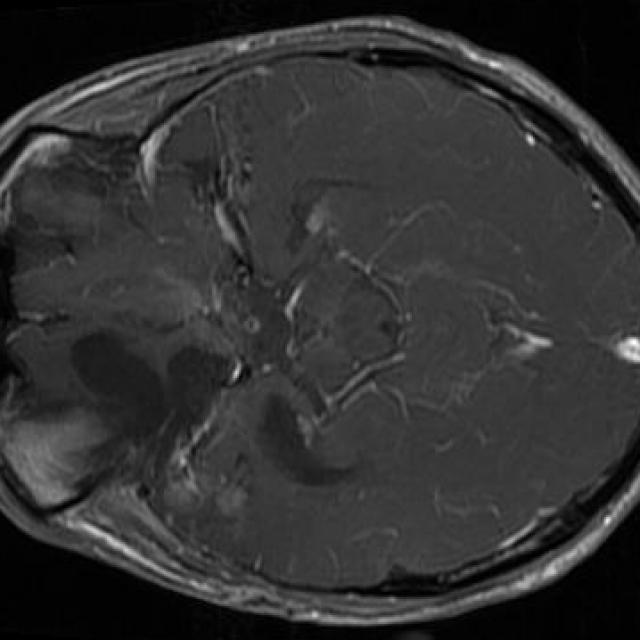glioma: (71, 332, 255, 512)
